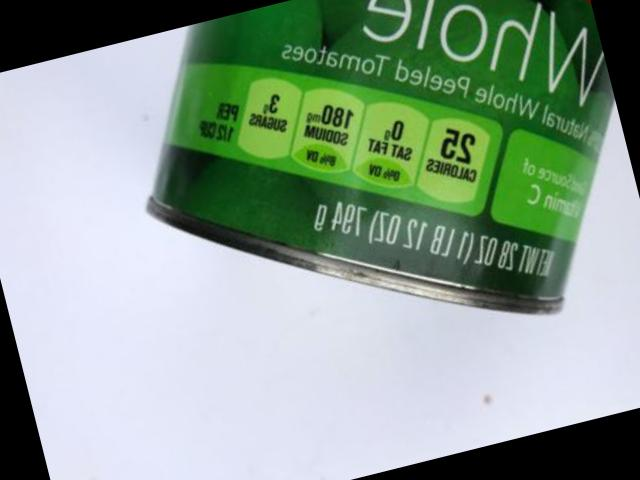metal: (147, 0, 614, 316)
